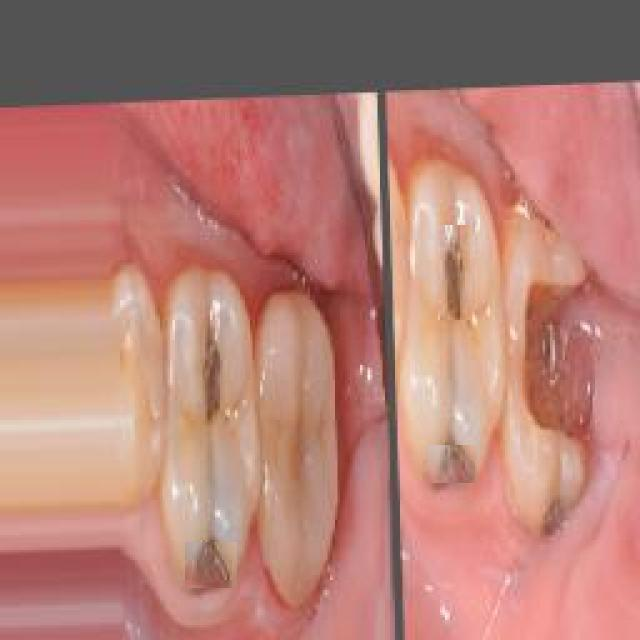caries: (523, 288, 595, 443), (185, 337, 237, 425), (438, 225, 472, 320), (185, 542, 237, 588), (428, 445, 478, 483), (538, 495, 573, 535)
